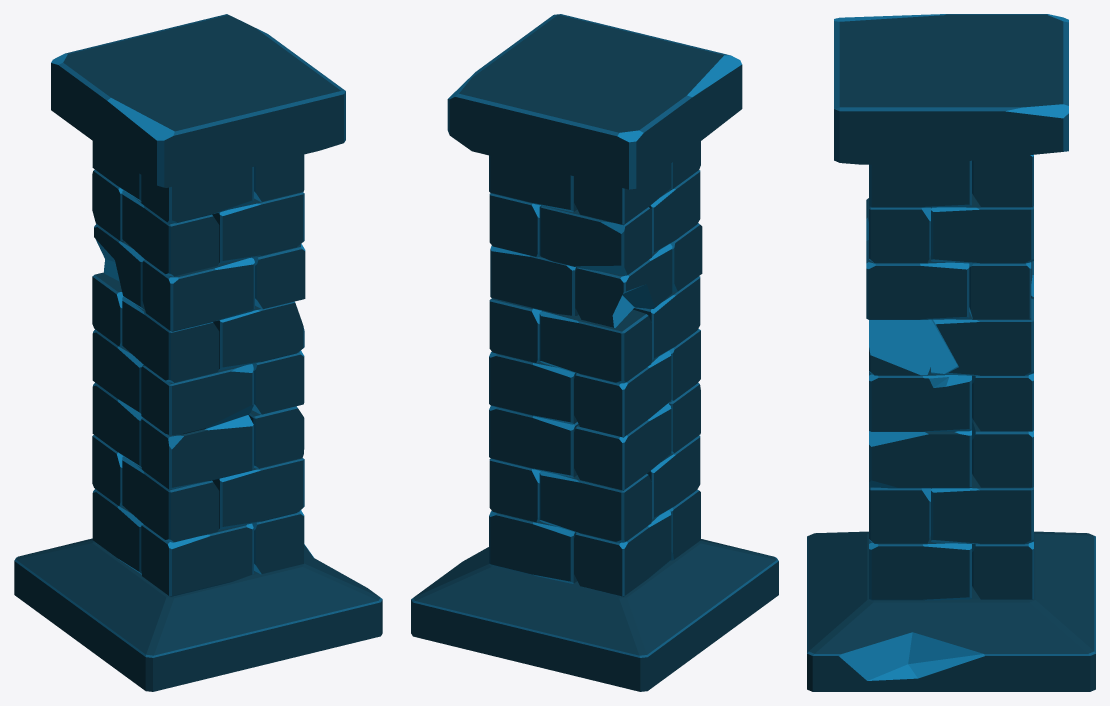
Rendered from pillar_type_03.fbx.
3 views of the same model, side by side, from view 1: azimuth 30°, elevation 25°; view 2: azimuth 150°, elevation 25°; view 3: azimuth 270°, elevation 25° (orthographic). The views are drawn at different scales.
Visible parts, largest first — view 1: pillar_type_03; view 2: pillar_type_03; view 3: pillar_type_03.
Part boxes in pixels (<box>): pillar_type_03: <box>14,14,382,691</box>; pillar_type_03: <box>411,14,778,691</box>; pillar_type_03: <box>807,14,1095,691</box>.
Bounding box in the file's own units: 140 × 305 × 140.
